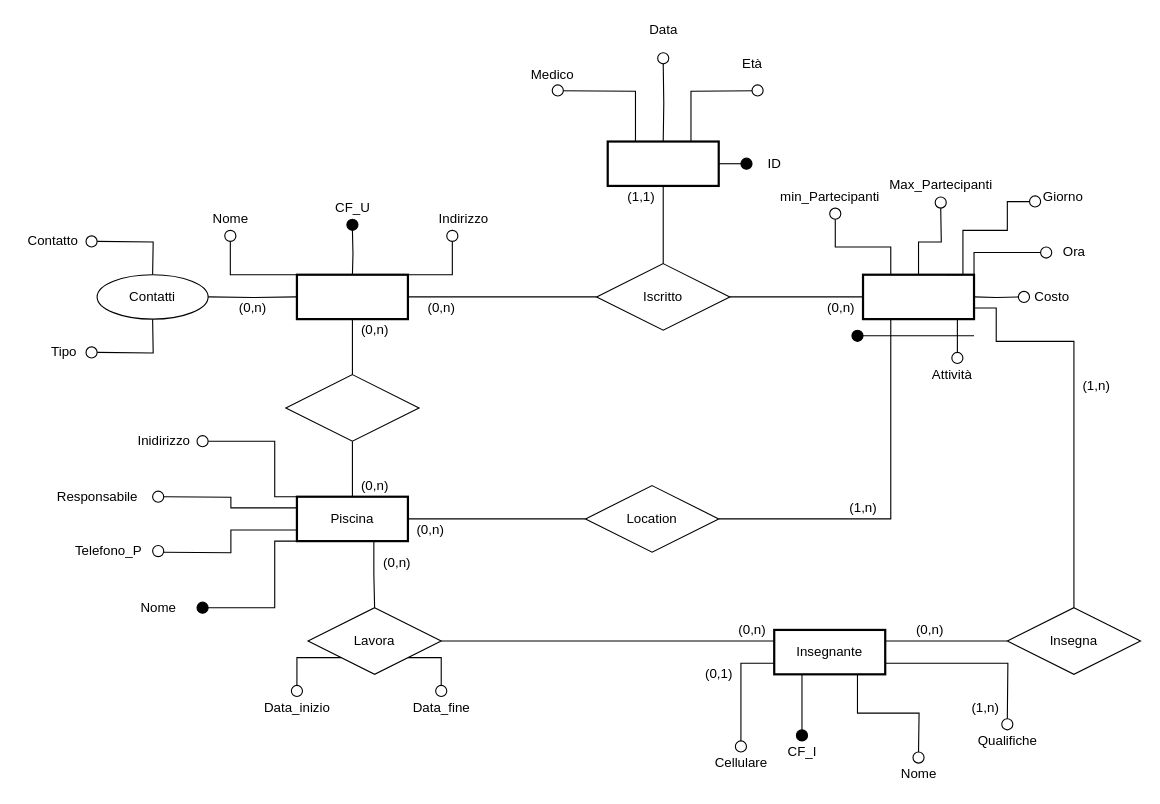
The diagram is 1160 pixels wide and 804 high, and some of its shapes have lost their labels. Each missing label, with the centre of its shape:
"Certificato" goes at (x=662, y=163).
"Corso" goes at (x=918, y=296).
"Frequenta" goes at (x=352, y=407).
"Utente" goes at (x=351, y=296).
